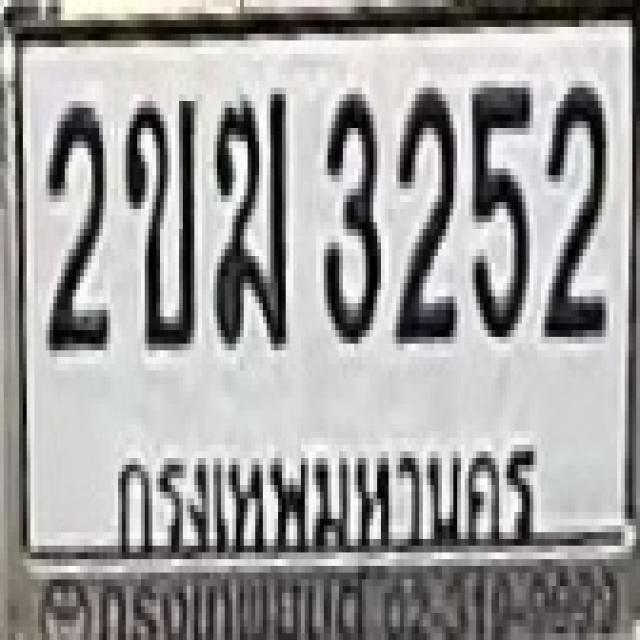2: (42, 94, 107, 344), (392, 84, 453, 340), (541, 81, 602, 330)
3: (320, 87, 377, 337)
5: (468, 81, 530, 337)
A02: (122, 94, 194, 344)
A06: (210, 88, 286, 344)
BKK: (102, 435, 545, 552)
